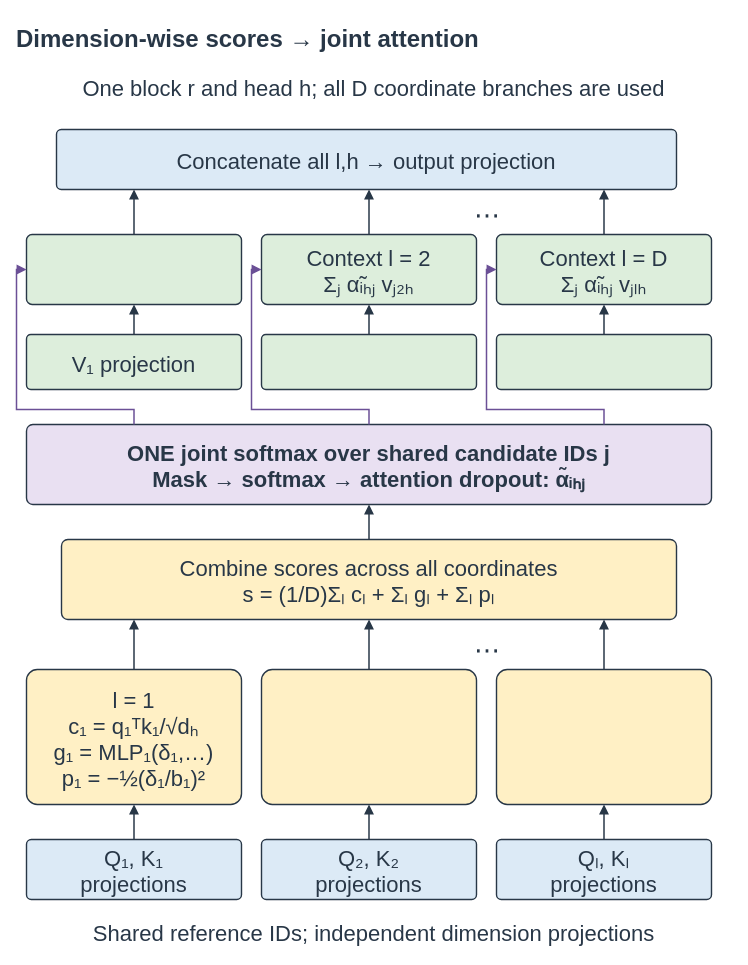
The diagram is 748 pixels wide and 965 high, and some of its shapes have lost their labels. Each missing label, with the box of its shape:
Context l = 1 Σⱼ α̃ᵢₕⱼ vⱼ₁ₕ: (25, 233, 242, 305)
l = 2 c₂ = q₂ᵀk₂/√dₕ g₂ = MLP₂(δ₂,…) p₂ = −½(δ₂/b₂)²: (260, 668, 477, 805)
l = D cₗ = qₗᵀkₗ/√dₕ gₗ = MLPₗ(δₗ,…) pₗ = −½(δₗ/bₗ)²: (495, 668, 712, 805)
V₂ projection: (260, 333, 477, 390)
Vₗ projection: (495, 333, 712, 390)
